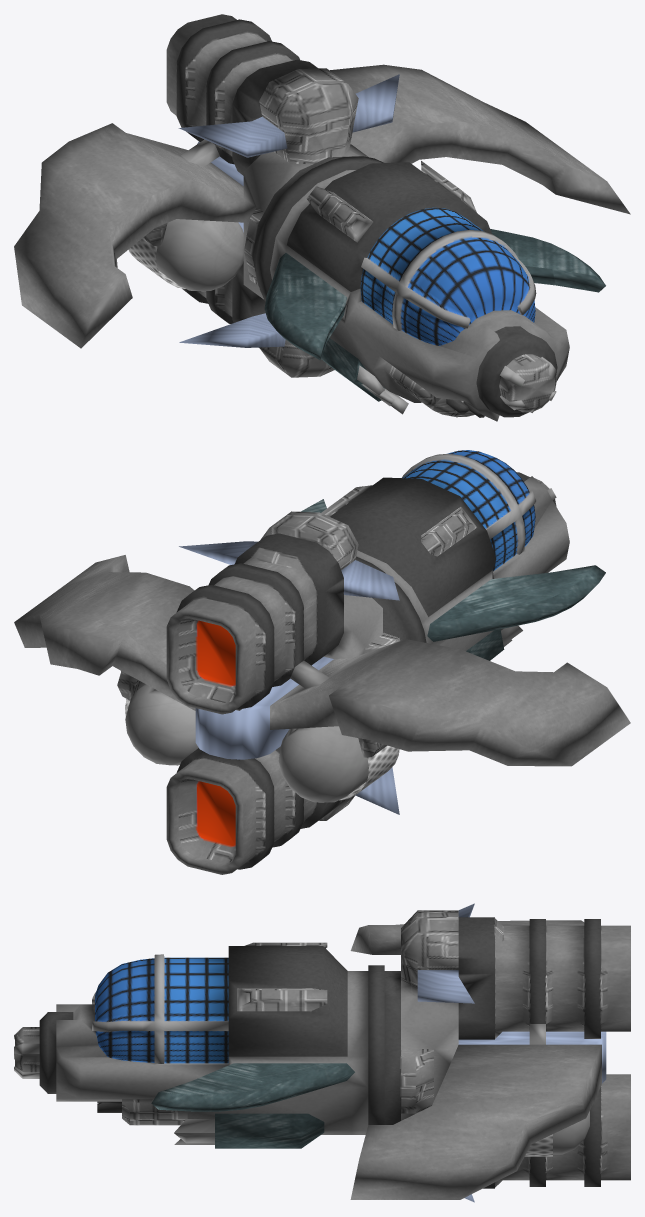
The model's file is enemy04.fbx.
The picture shows the model from 3 angles, top to bottom: view 1: azimuth 30°, elevation 25°; view 2: azimuth 150°, elevation 25°; view 3: azimuth 270°, elevation 25°; orthographic projection. The views are drawn at different scales.
Parts seen in each view (by area): view 1: mesh; view 2: mesh; view 3: mesh.
Part boxes in pixels (bbox=[...]): mesh: bbox=[14, 14, 630, 421]; mesh: bbox=[14, 450, 630, 874]; mesh: bbox=[14, 903, 630, 1202].
Size of the model in its own units: 717 by 363 by 751.
